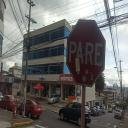Pare: (66, 18, 108, 91)
